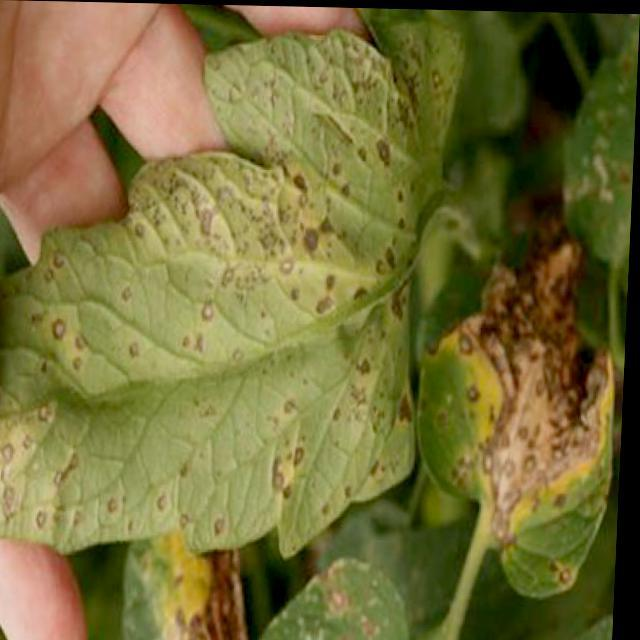Tomato Septoria spot leaf: (0, 1, 470, 556), (436, 248, 626, 594)
